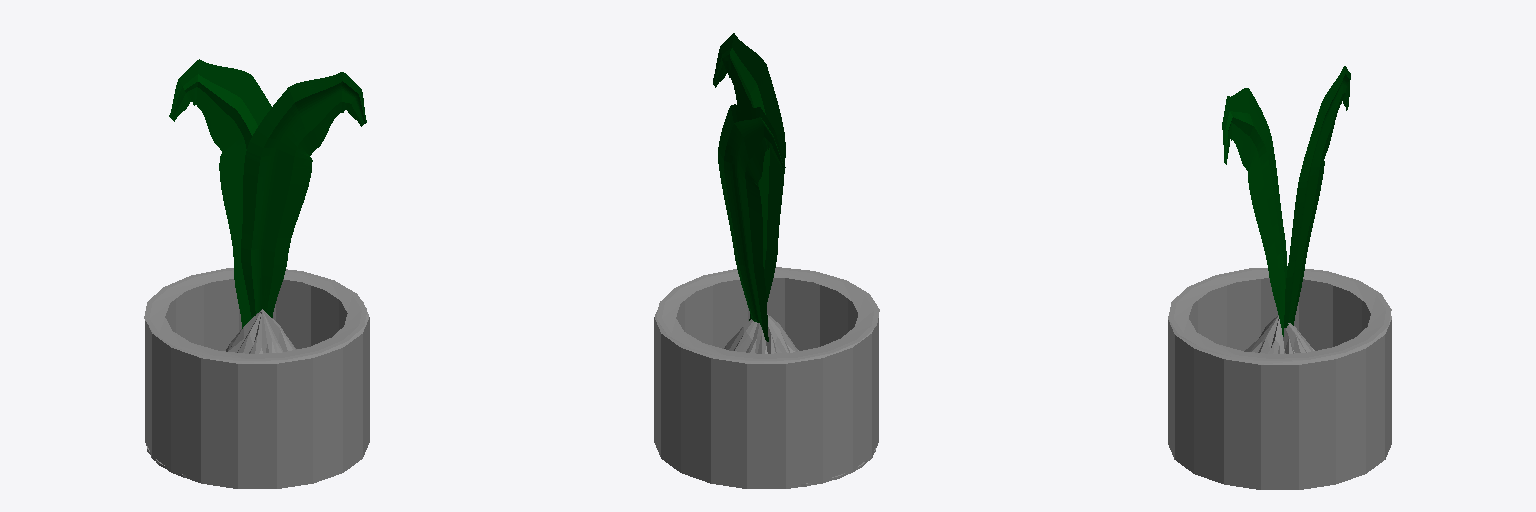
The model's file is ovosch.obj.
The picture shows the model from 3 angles: view 1: azimuth 30°, elevation 25°; view 2: azimuth 150°, elevation 25°; view 3: azimuth 270°, elevation 25°; orthographic projection.
Visible parts, largest first — view 1: Tube001, Loft001, Loft002, Cone001; view 2: Tube001, Loft002, Loft001, Cone001; view 3: Tube001, Loft001, Loft002, Cone001.
Boxes of the visible parts, x1=… form: Tube001: x1=144, y1=268, x2=369, y2=488; Loft001: x1=241, y1=72, x2=366, y2=317; Loft002: x1=169, y1=59, x2=271, y2=328; Cone001: x1=226, y1=309, x2=296, y2=353; Tube001: x1=654, y1=267, x2=879, y2=488; Loft002: x1=718, y1=104, x2=785, y2=341; Loft001: x1=713, y1=33, x2=785, y2=322; Cone001: x1=724, y1=314, x2=798, y2=353; Tube001: x1=1168, y1=268, x2=1391, y2=489; Loft001: x1=1222, y1=88, x2=1288, y2=336; Loft002: x1=1284, y1=66, x2=1350, y2=327; Cone001: x1=1244, y1=315, x2=1314, y2=353.
Size of the model in its own units: 33.85 by 63.04 by 33.89.